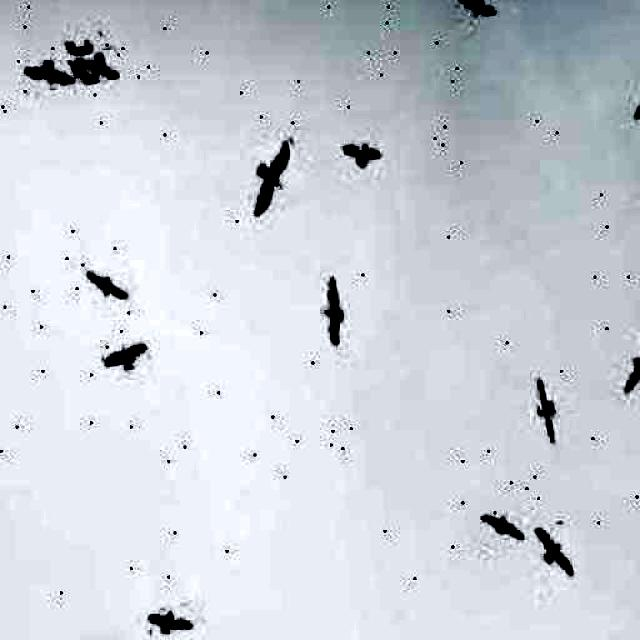airplane: (241, 140, 302, 216), (315, 275, 349, 349), (534, 522, 572, 582), (21, 54, 75, 92), (532, 375, 561, 445), (85, 262, 129, 306), (65, 34, 109, 78), (101, 340, 151, 376), (480, 508, 524, 548), (74, 48, 120, 85), (148, 604, 194, 636), (340, 138, 382, 170), (618, 342, 640, 392), (452, 0, 496, 21), (628, 80, 640, 118)
